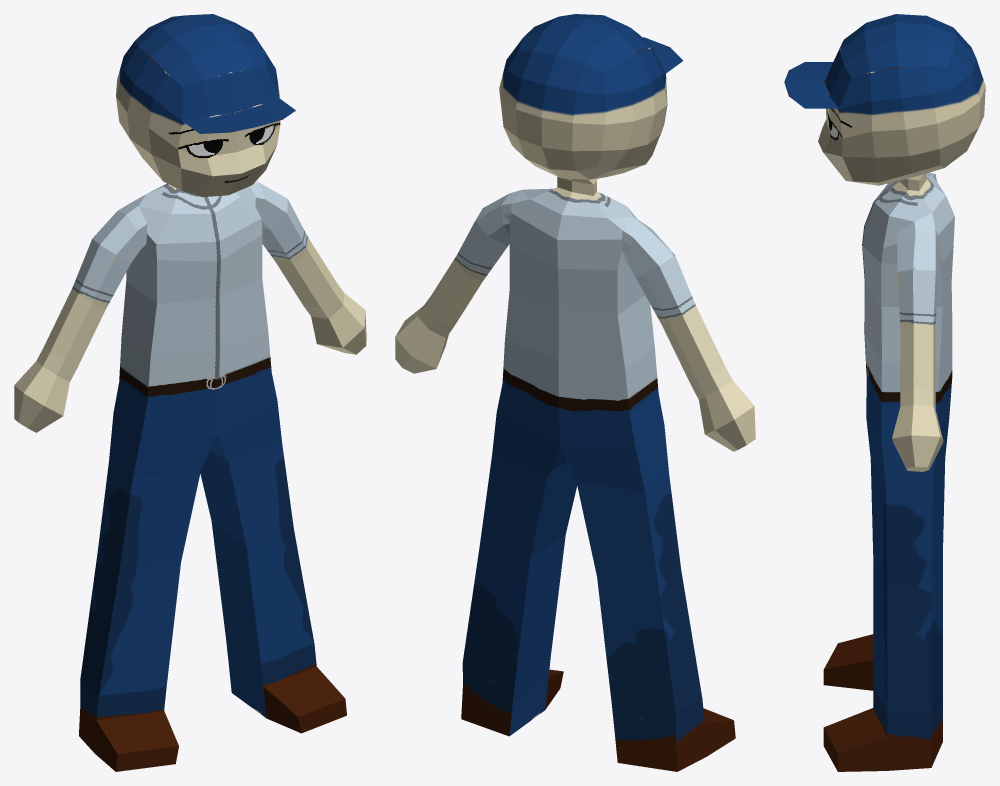
The model's file is Guia.fbx.
3 views of the same model, side by side, from view 1: azimuth 30°, elevation 25°; view 2: azimuth 150°, elevation 25°; view 3: azimuth 270°, elevation 25° (orthographic). The views are drawn at different scales.
Parts seen in each view (by area): view 1: Cube; view 2: Cube; view 3: Cube.
Boxes of the visible parts, box(x1,y1,x2,y2) form: Cube: box(14, 14, 366, 771); Cube: box(395, 14, 755, 771); Cube: box(784, 14, 985, 771).
Bounding box in the file's own units: 492 × 942 × 248.
1 material, 1 textured.
